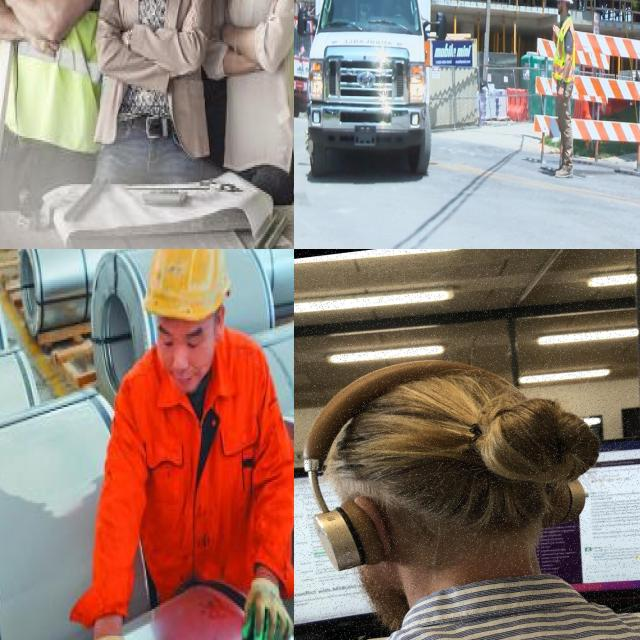Ear-protection: (294, 332, 630, 621)
No_Ear-Protection: (214, 306, 225, 337)
No_Glasses: (157, 315, 218, 352)
face_nomask: (159, 351, 214, 394)
hand_glove: (243, 576, 294, 640)
head_helmet: (146, 249, 230, 320)
person: (549, 0, 575, 176)
vest: (555, 23, 574, 80)
